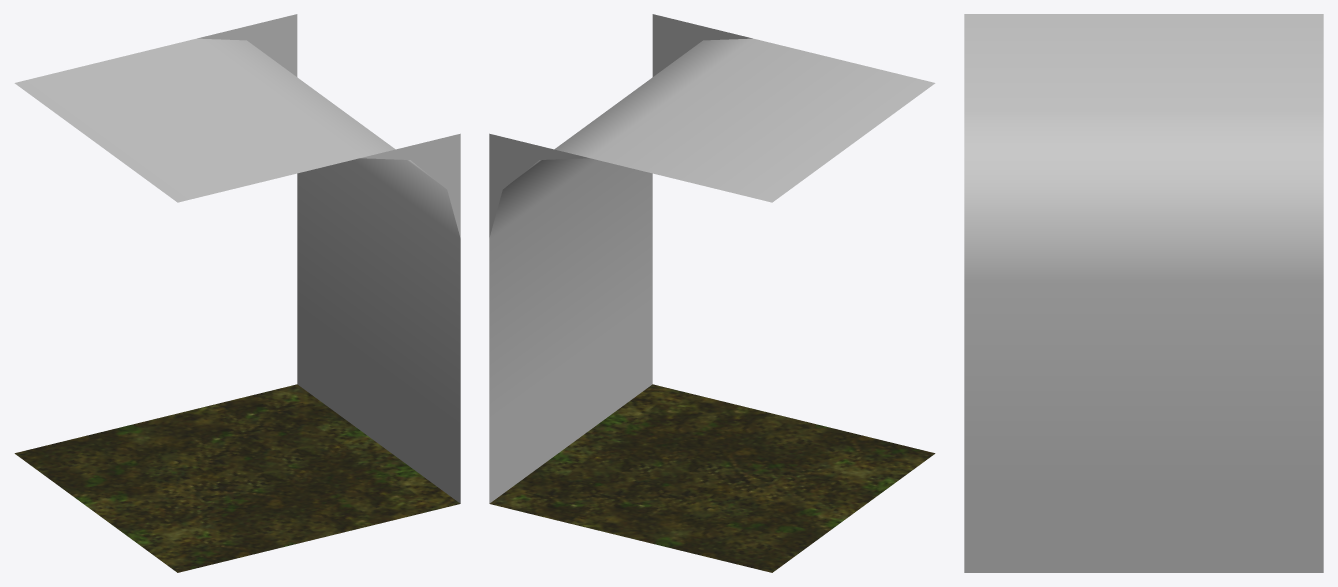
The model's file is SM_WALL_SE_01.fbx.
3 views of the same model, side by side, from view 1: azimuth 30°, elevation 25°; view 2: azimuth 150°, elevation 25°; view 3: azimuth 270°, elevation 25° (orthographic). The views are drawn at different scales.
Visible parts, largest first — view 1: SM_WALL_SE_01; view 2: SM_WALL_SE_01; view 3: SM_WALL_SE_01.
Boxes of the visible parts, box(x1,y1,x2,y2) form: SM_WALL_SE_01: box(14, 14, 460, 572); SM_WALL_SE_01: box(489, 14, 935, 572); SM_WALL_SE_01: box(964, 14, 1323, 572).
Bounding box in the file's own units: 4 × 5 × 4.
